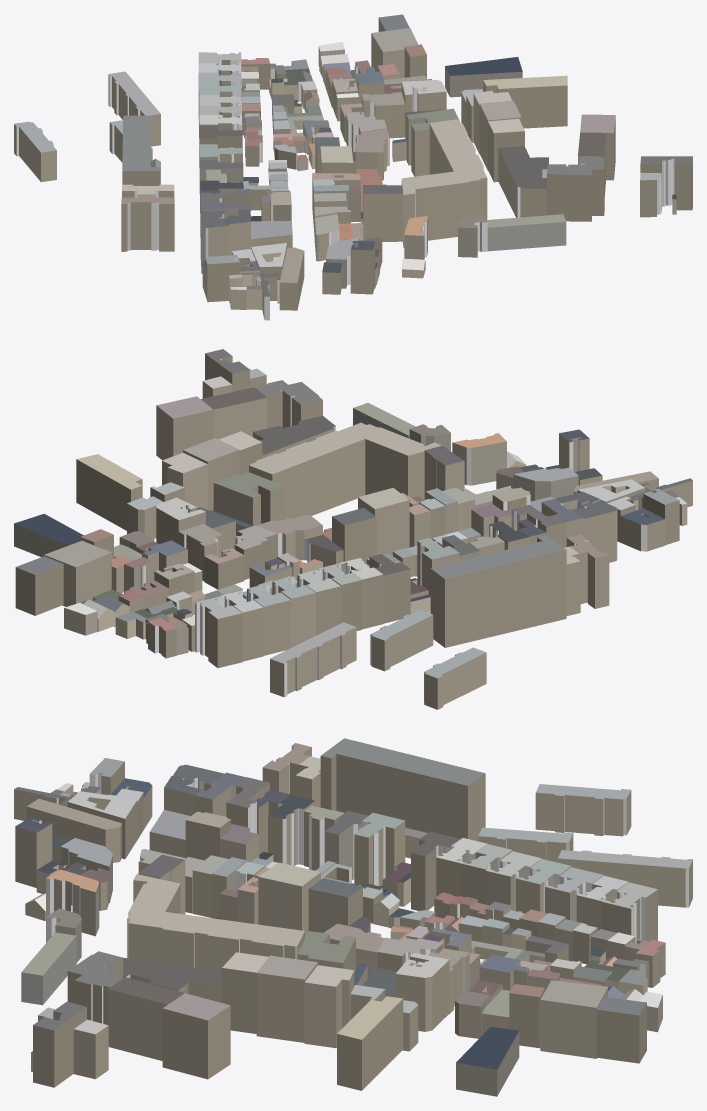
3 renders of one model, top to bottom at view 1: azimuth 30°, elevation 25°; view 2: azimuth 150°, elevation 25°; view 3: azimuth 270°, elevation 25°, orthographic. The views are drawn at different scales.
Visible parts, largest first — view 1: tuile; view 2: tuile; view 3: tuile.
Boxes of the visible parts, x1,y1,x2,y2 form: tuile: [14, 14, 692, 320]; tuile: [14, 349, 692, 709]; tuile: [14, 738, 692, 1096].
Bounding box in the file's own units: 277 × 37.96 × 273.
